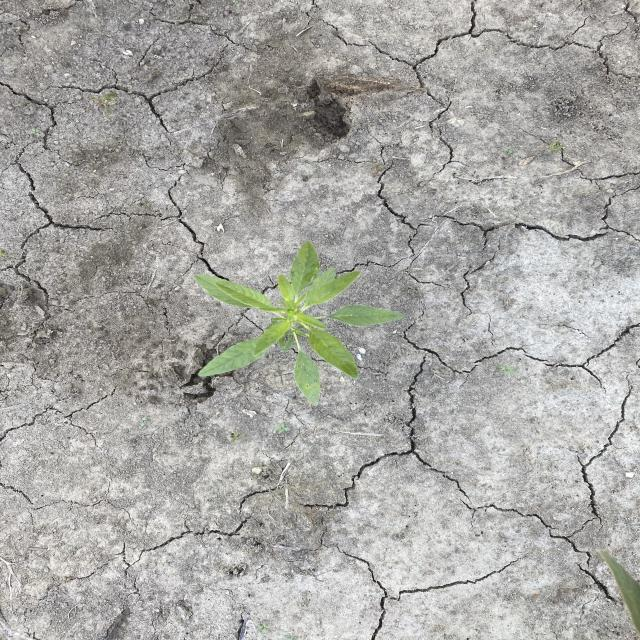Waterhemp: (190, 240, 406, 407)
